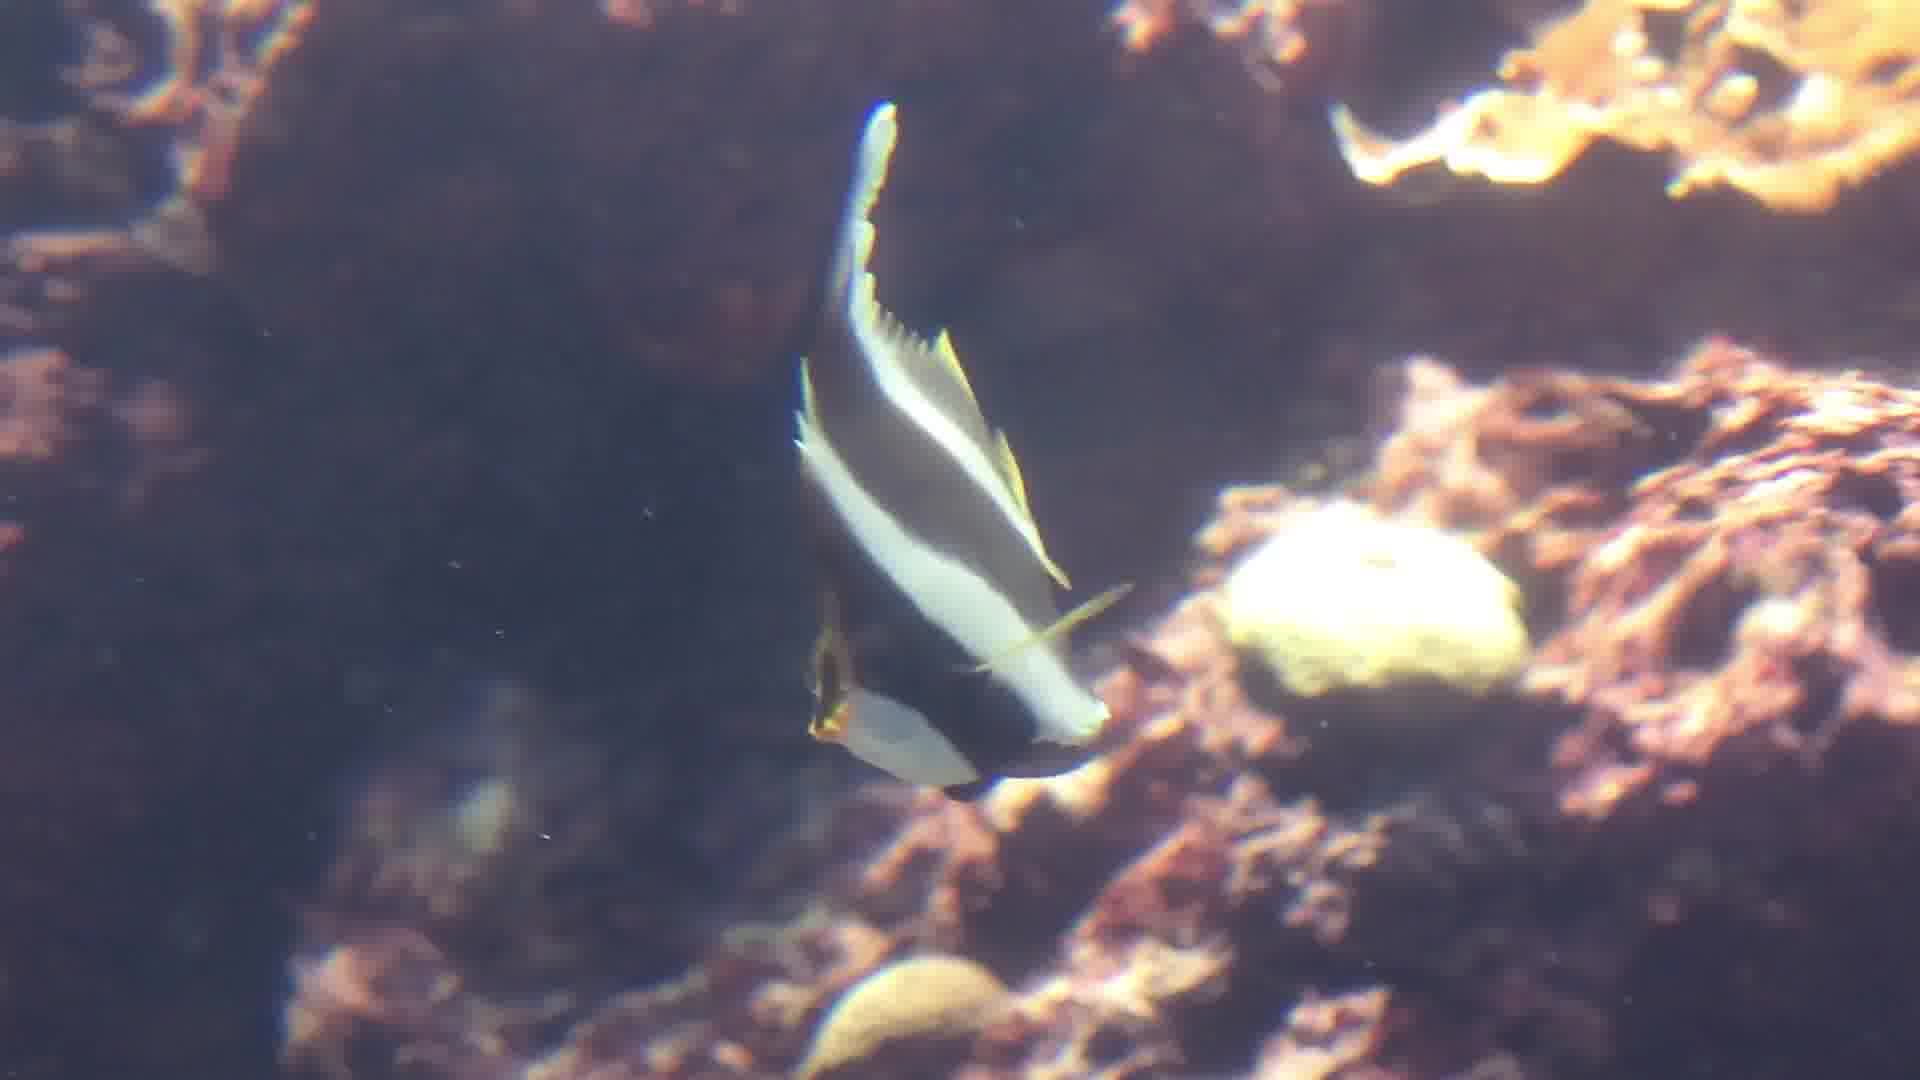Heniochus chrysostomus: (745, 57, 1164, 799)
